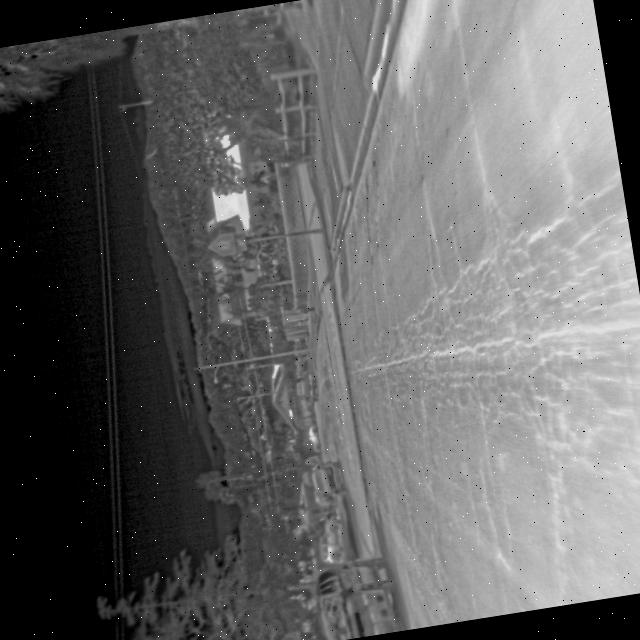Vehicle: (306, 550, 407, 640), (310, 512, 352, 568), (308, 456, 350, 502), (292, 371, 322, 407)
